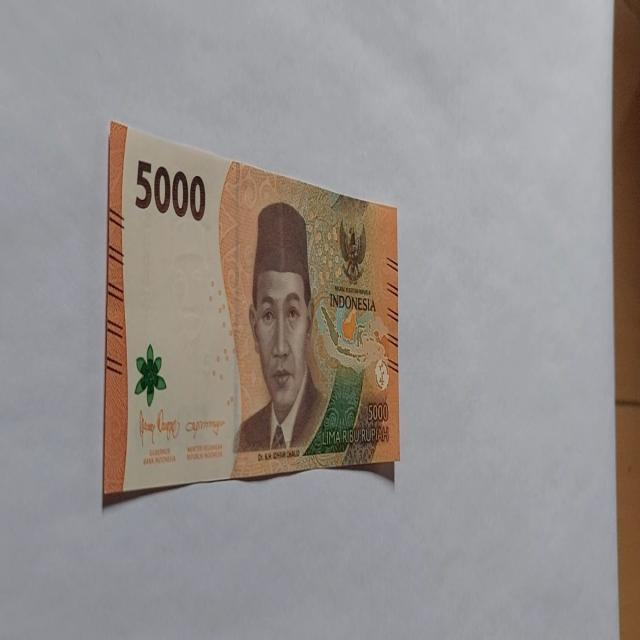lima ribu rupiah: (102, 119, 400, 506), (232, 200, 331, 459)
